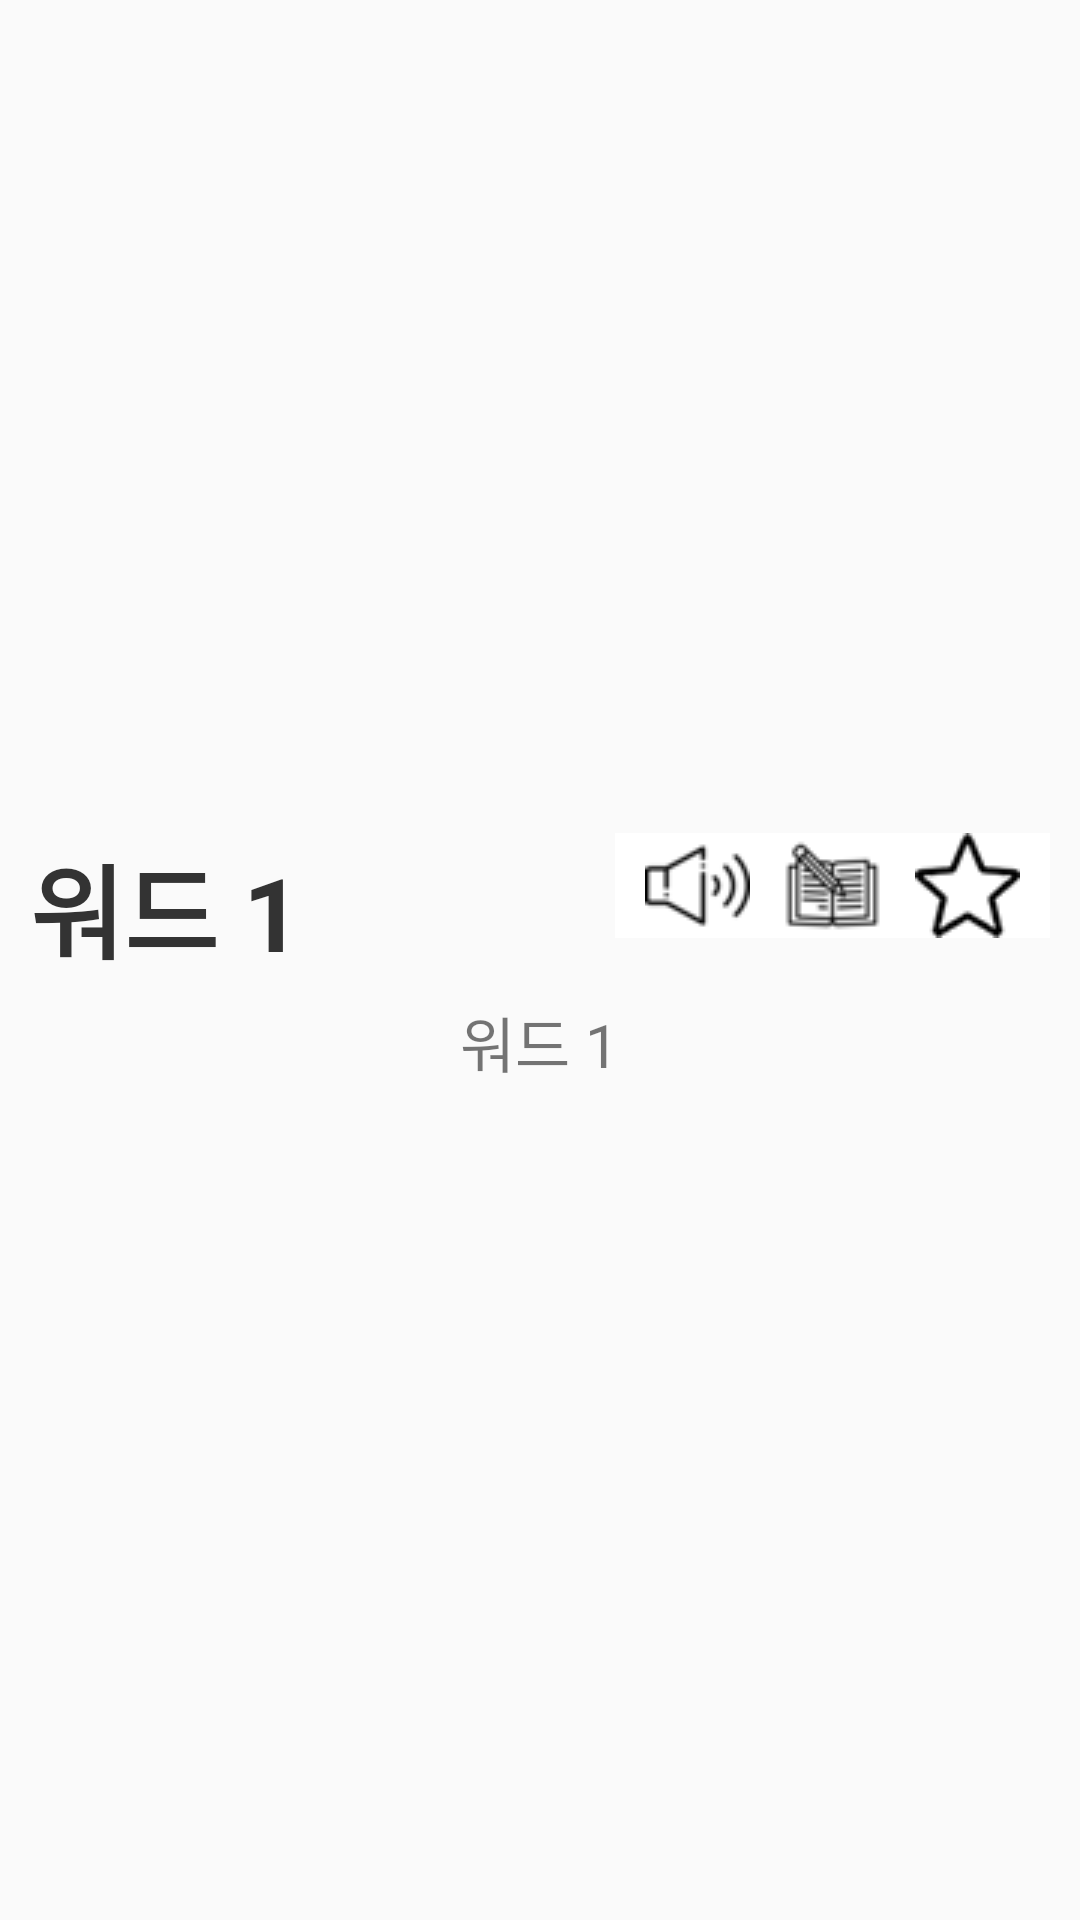

Where icons sit on this 1080 x 1920 app screen, as (x1, y1, x2, y2):
sound: (645, 844, 750, 927)
star: (915, 833, 1020, 938)
studying: (785, 842, 880, 929)
